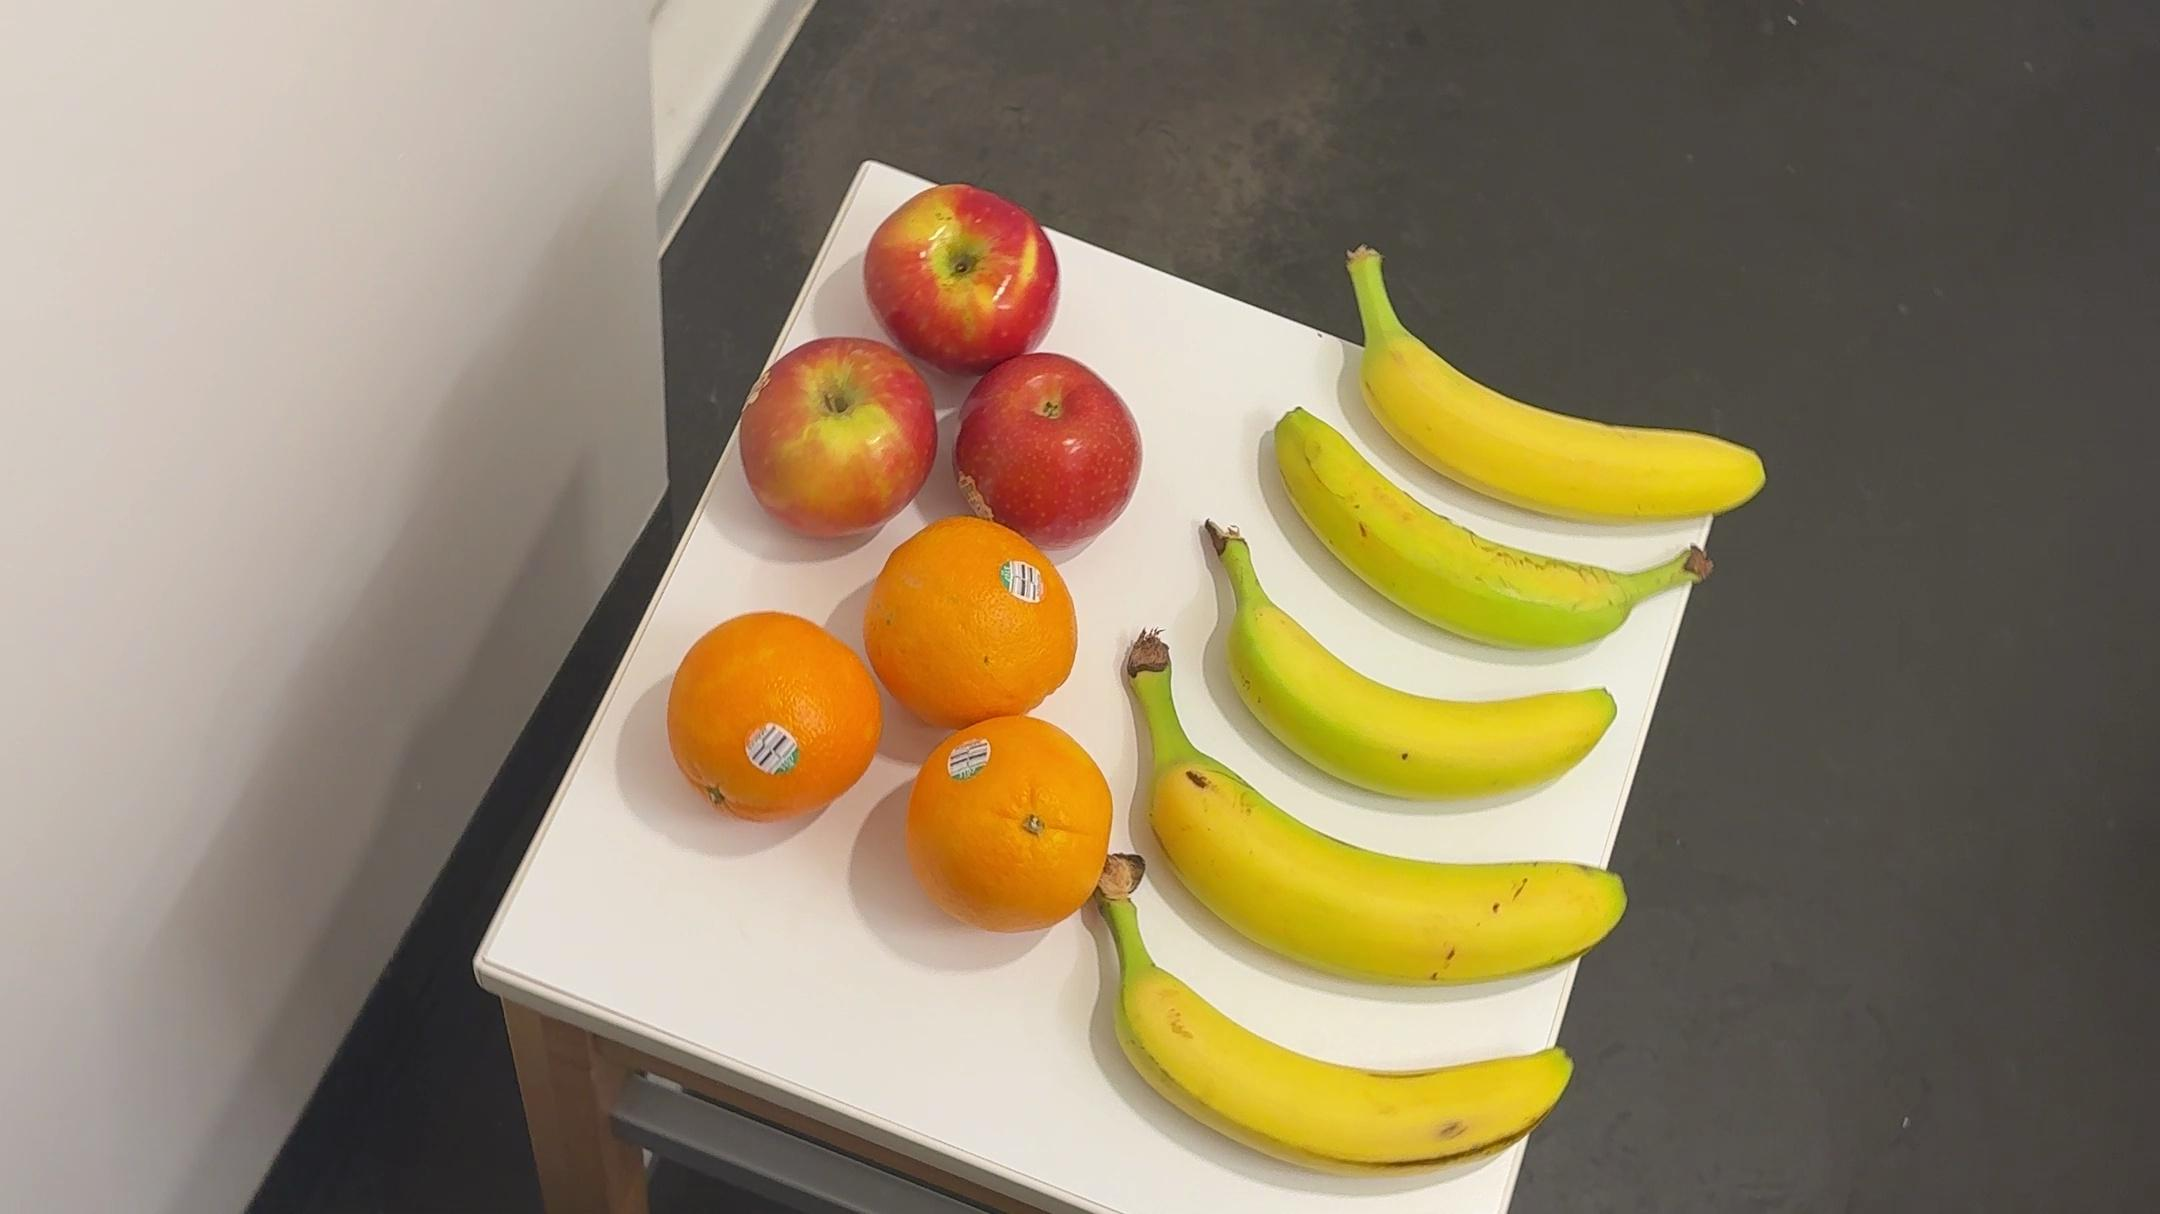apple: (731, 331, 938, 543), (951, 341, 1157, 552), (871, 168, 1058, 358)
banana: (1110, 629, 1632, 1003), (1083, 853, 1581, 1169), (1187, 519, 1630, 816), (1271, 398, 1718, 681), (1334, 260, 1780, 527)
orange: (855, 508, 1087, 727), (912, 703, 1111, 948), (674, 603, 874, 830)
